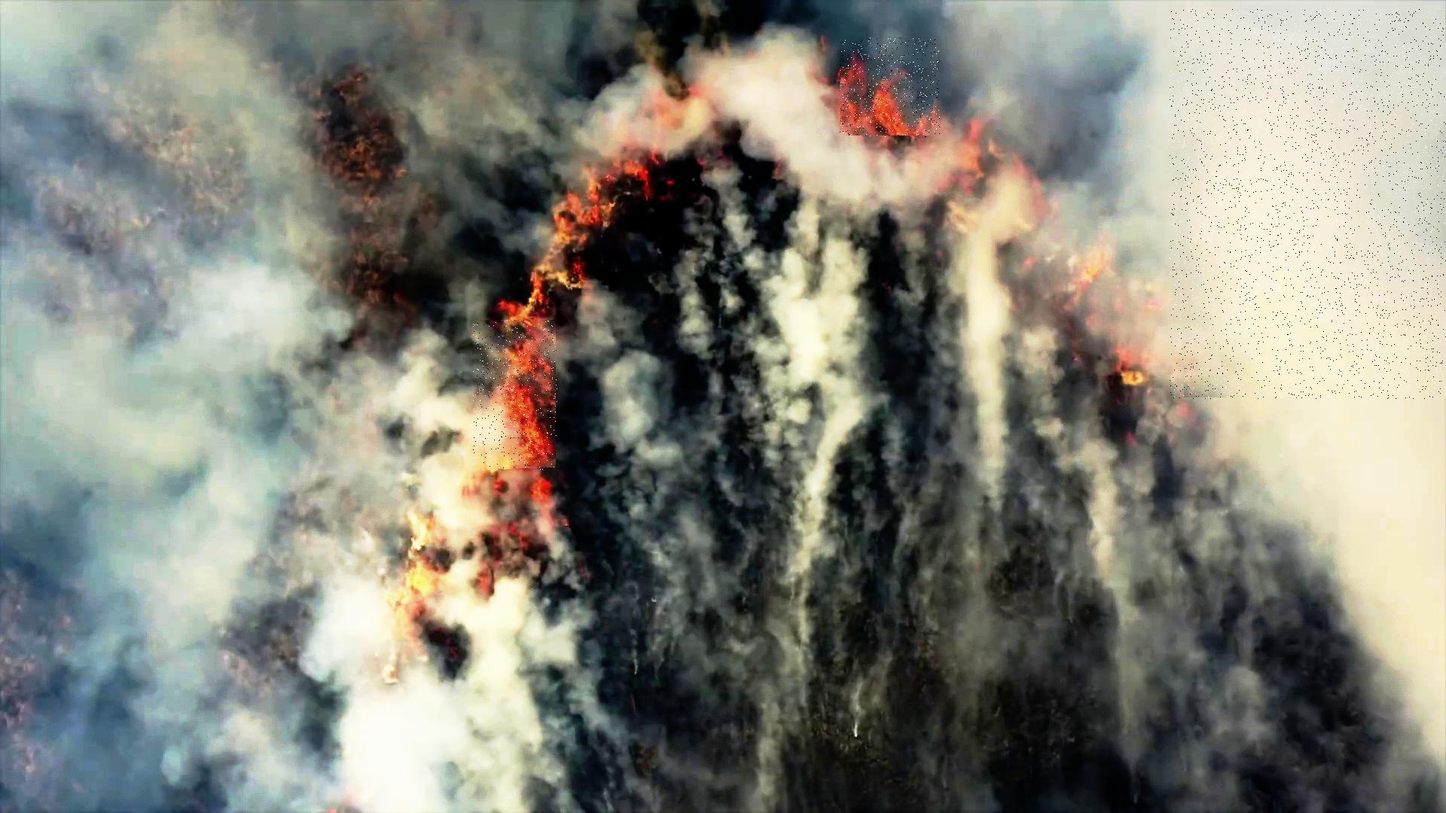fire: (474, 320, 558, 470), (840, 38, 940, 137)
smoke: (1170, 10, 1446, 400)
